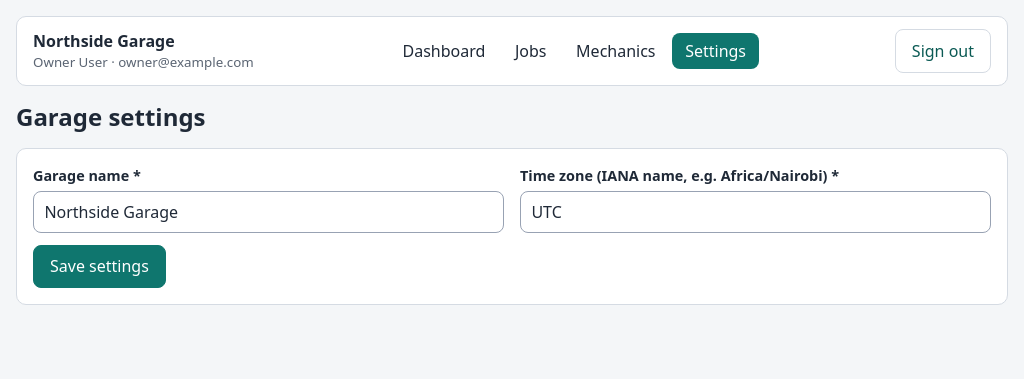
Scenario: GOSSA owner app › saves garage settings under If-Match and updates the header
The image size is (1024, 379).
Step 1. Replace the text in the field labelled "Garage name *" with "Southside Garage" → [268, 212], box [33,191,504,233]
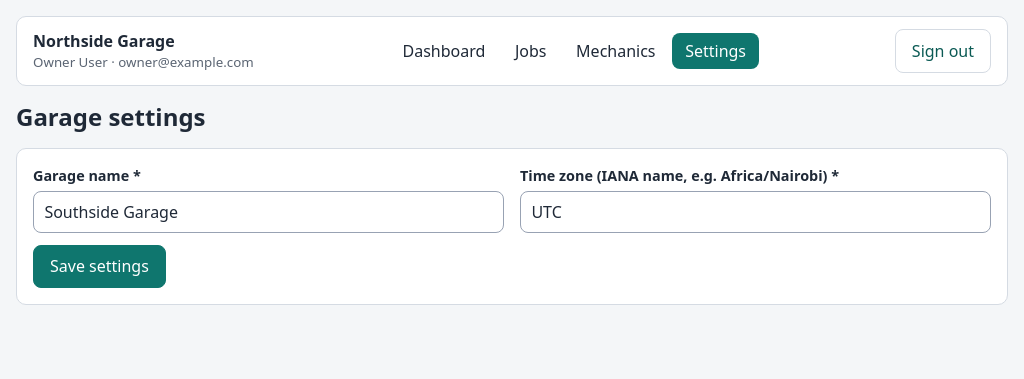
Step 2. Click the button "Save settings" → [99, 266], box [33,245,166,288]
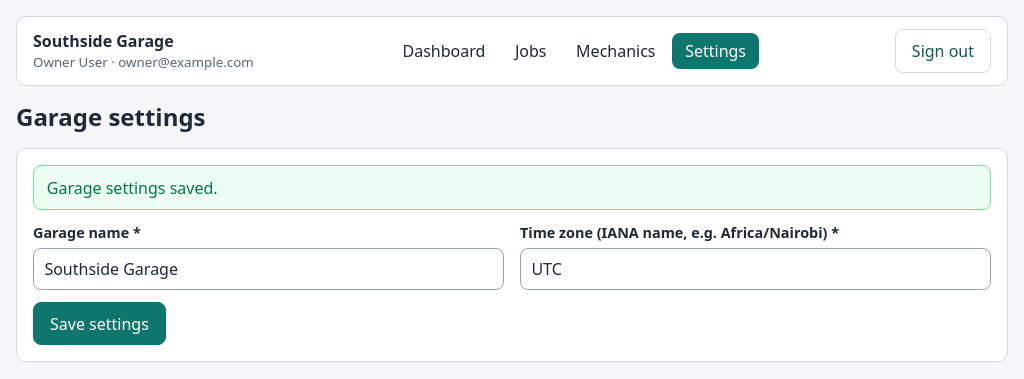
Expected: the text "Garage settings saved." is shown, [33,165,991,210]
Expected: the text "Southside Garage" is shown, [33,30,174,52]
